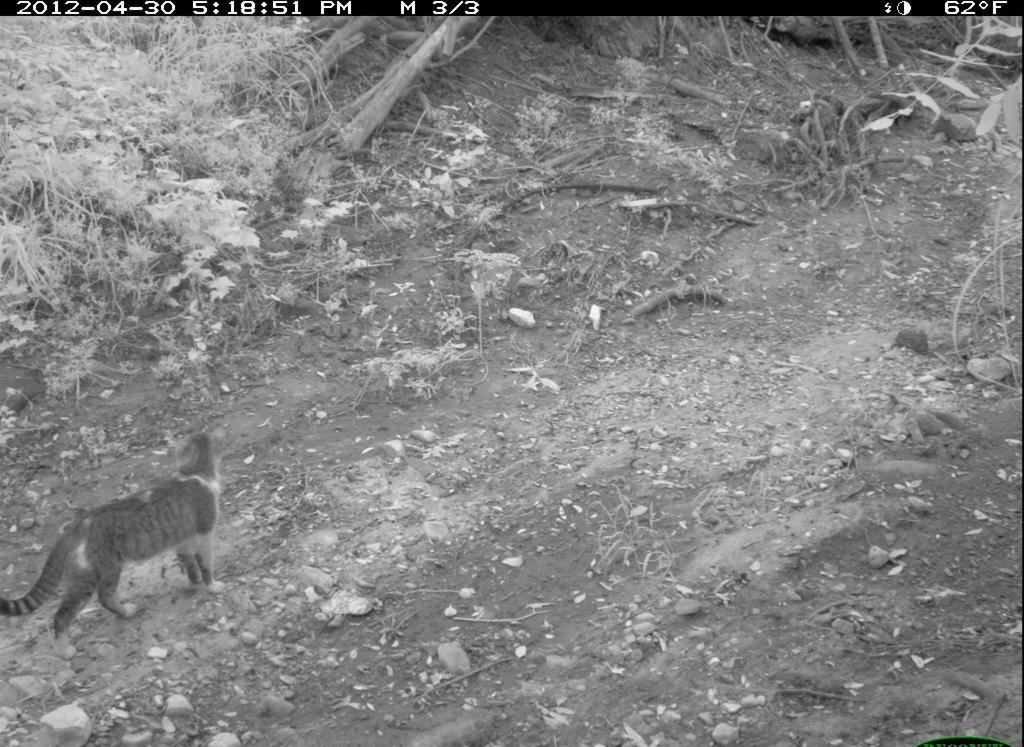cat: (2, 429, 235, 656)
